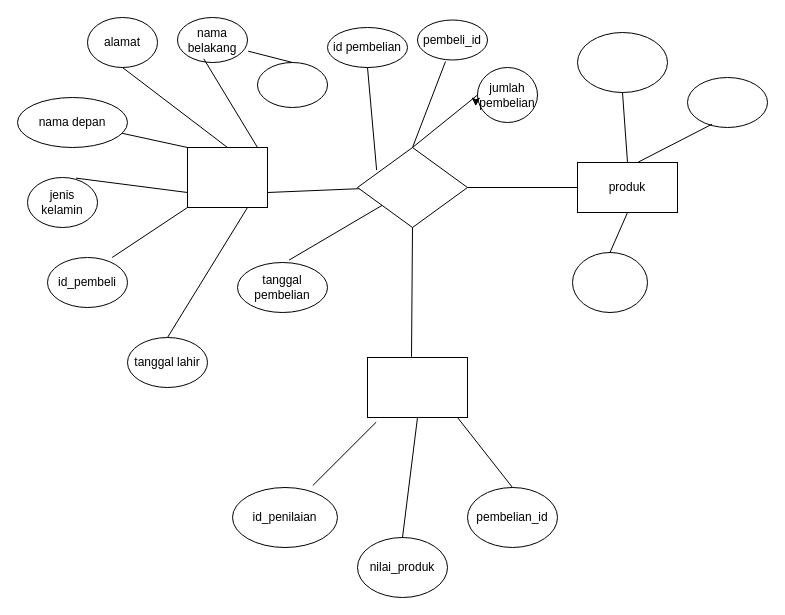
The diagram is 785 pixels wide and 615 high, and some of its shapes have lost their labels. Here are the shapes that lost their labels. From the top down, the centre of each, then its label:
the point at 622,62: judul produk
the point at 292,85: nama lengkap
the point at 727,102: harga produk
the point at 227,177: pembeli
the point at 412,187: membeli
the point at 610,282: deskripsi produk
the point at 417,387: penilaian
